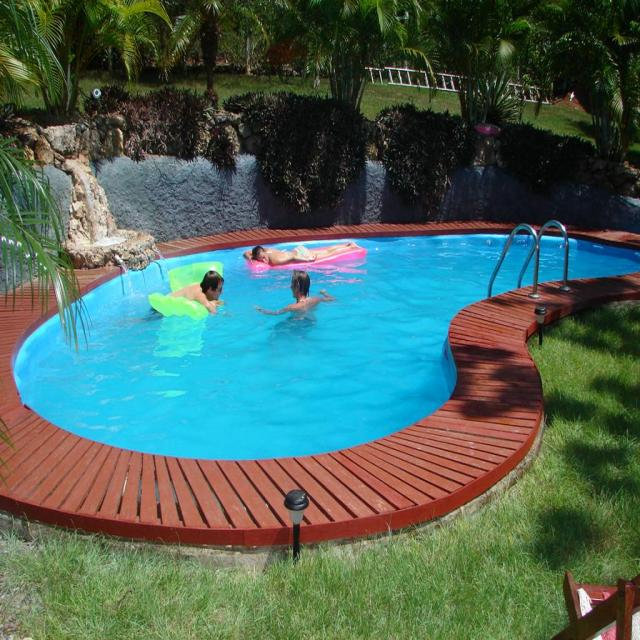nomask: (212, 279, 222, 299), (257, 251, 269, 264), (290, 276, 296, 297)
